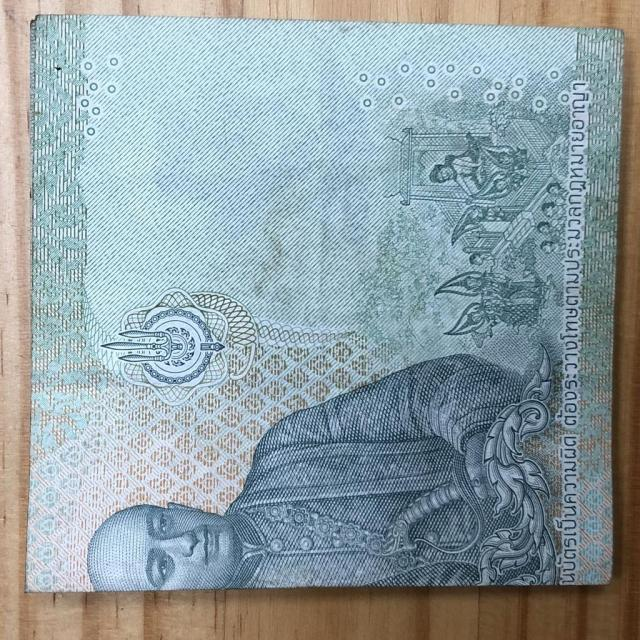THAI20: (26, 14, 623, 592)
